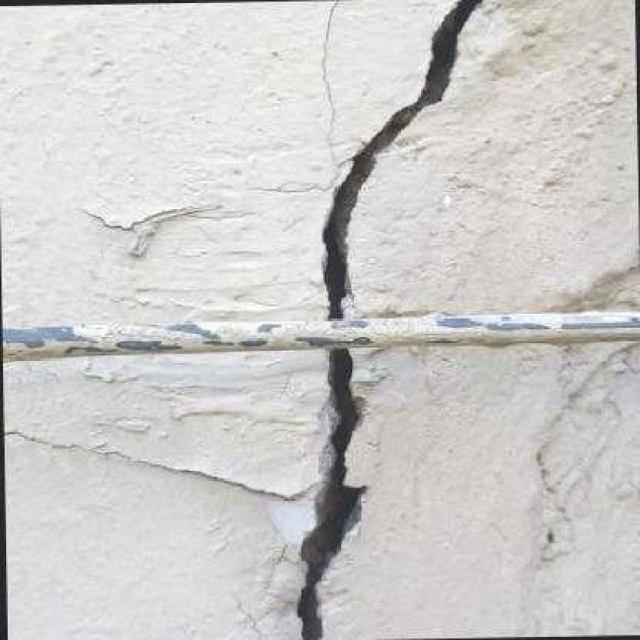D00: (305, 0, 500, 316), (281, 352, 376, 640), (6, 426, 308, 503), (311, 0, 342, 155)
